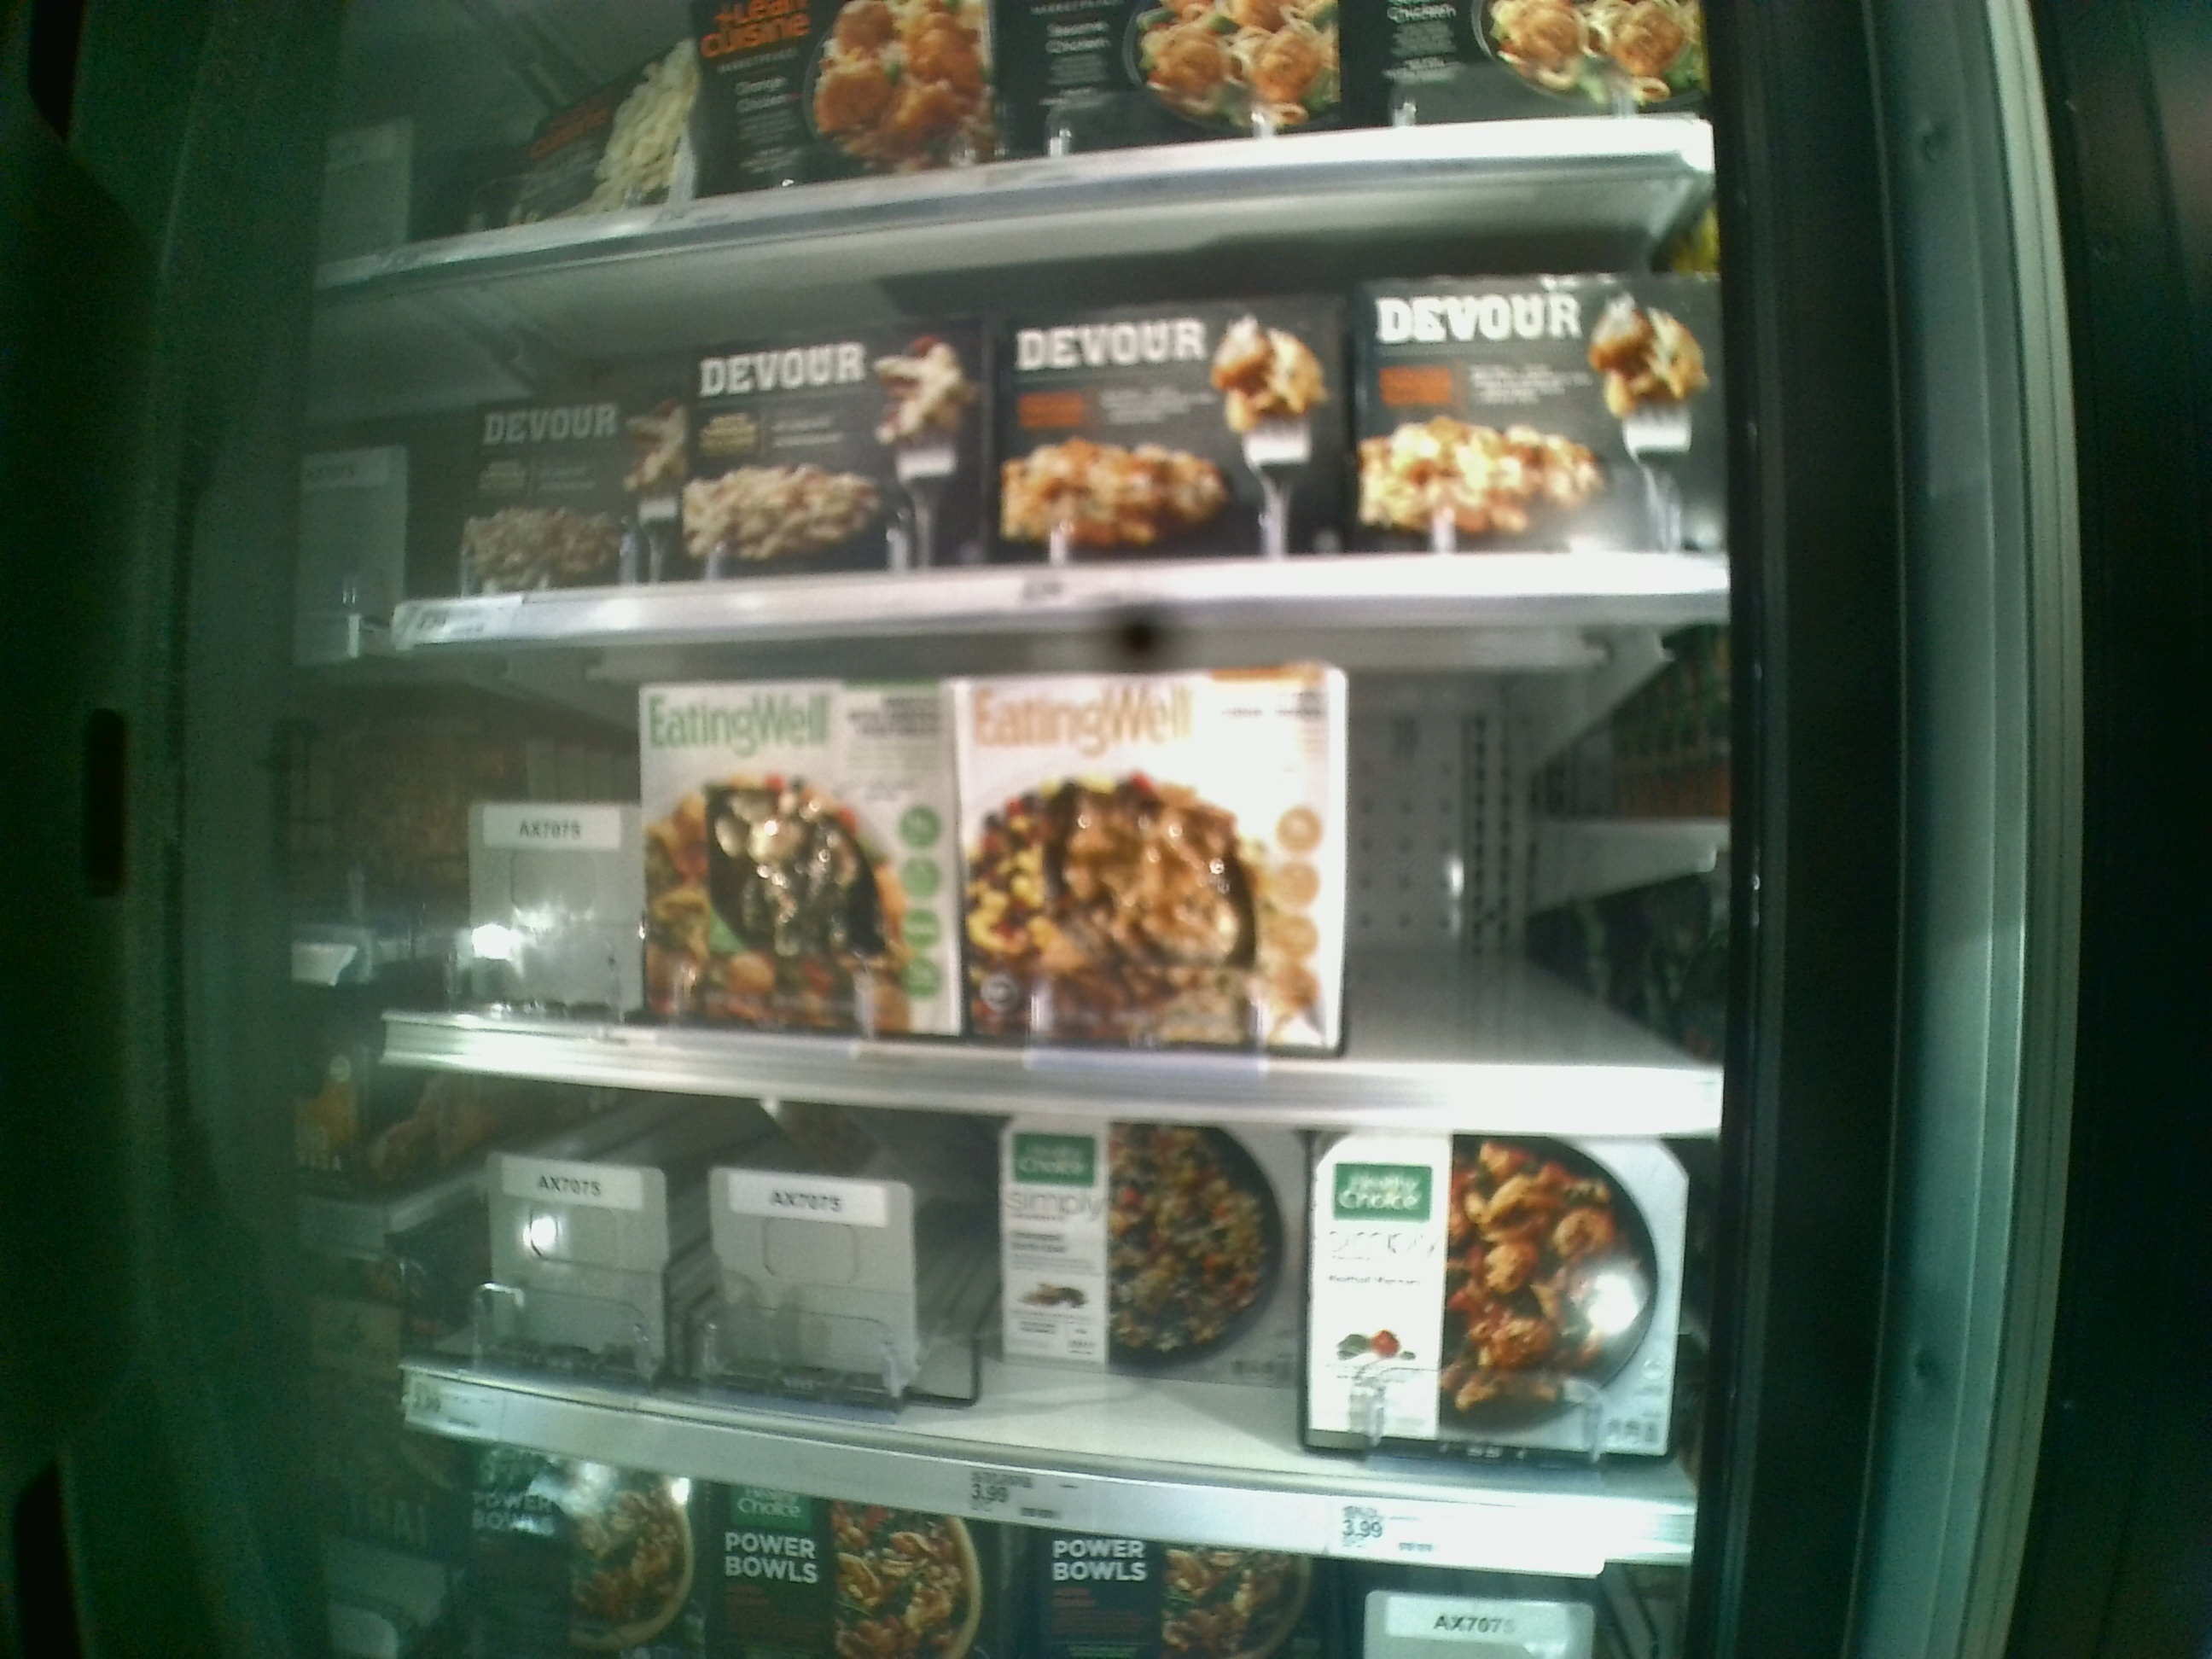shelf: (383, 596, 1724, 1129), (371, 153, 1717, 648)
